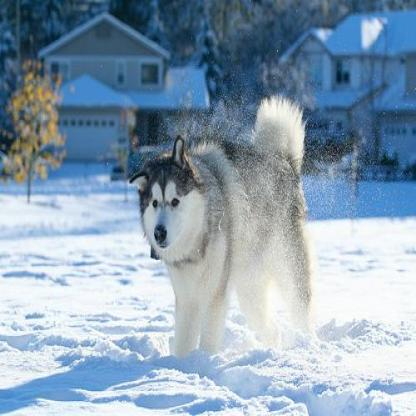malamute: (128, 92, 311, 362)
